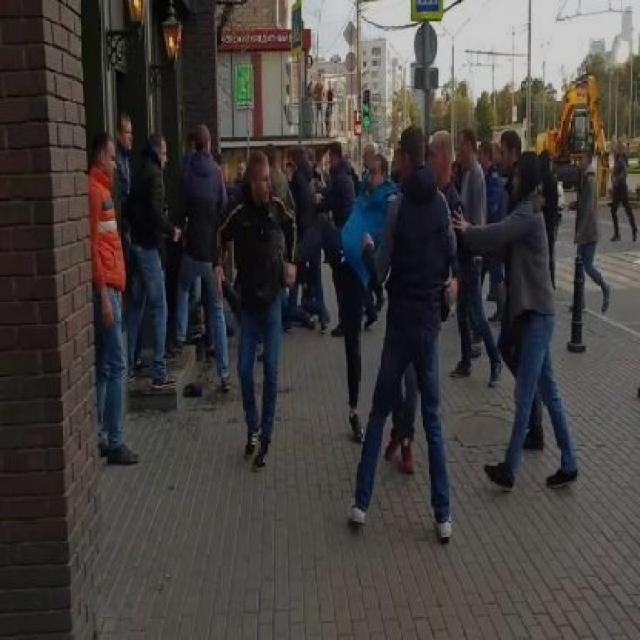fight: (209, 140, 397, 466)
non-fight: (334, 128, 466, 555), (474, 109, 578, 497), (78, 108, 178, 468)
